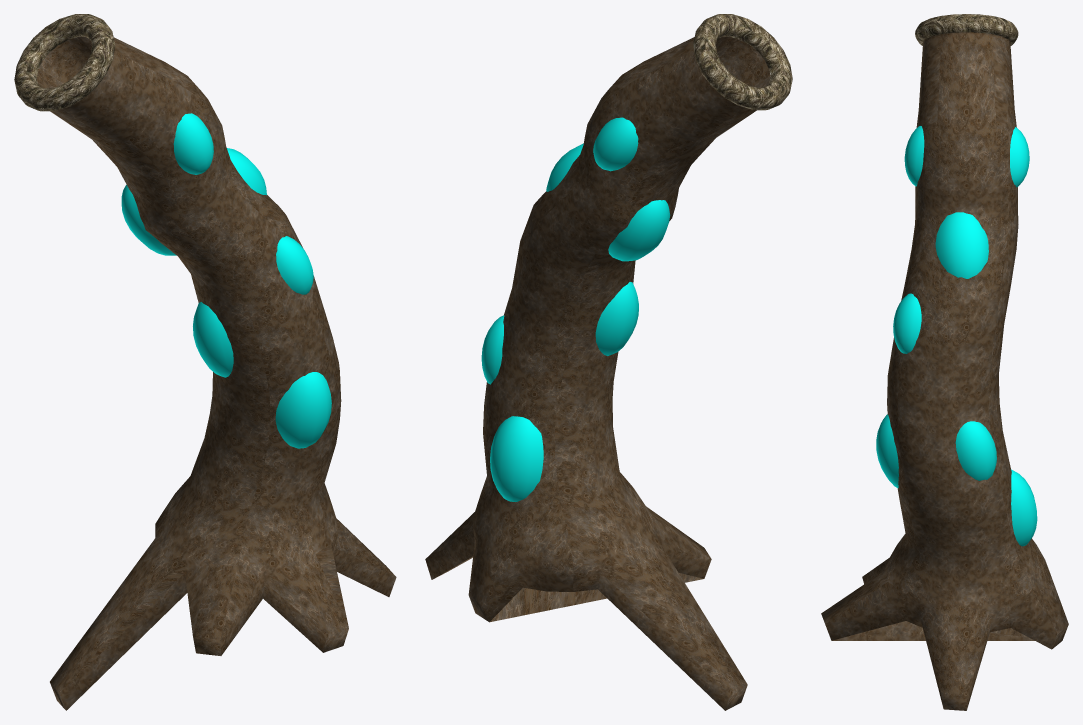
Rendered from TubePlantTest.fbx.
The picture shows the model from 3 angles, left to right: view 1: azimuth 30°, elevation 25°; view 2: azimuth 150°, elevation 25°; view 3: azimuth 270°, elevation 25°; orthographic projection. The views are drawn at different scales.
Visible parts, largest first — view 1: polySurface10; view 2: polySurface10; view 3: polySurface10.
Boxes of the visible parts, x1,y1,x2,y2 form: polySurface10: (14,14,396,710); polySurface10: (425,14,792,710); polySurface10: (821,14,1068,710).
Size of the model in its own units: 16.05 by 28.96 by 10.58.
4 materials, 4 textured.
